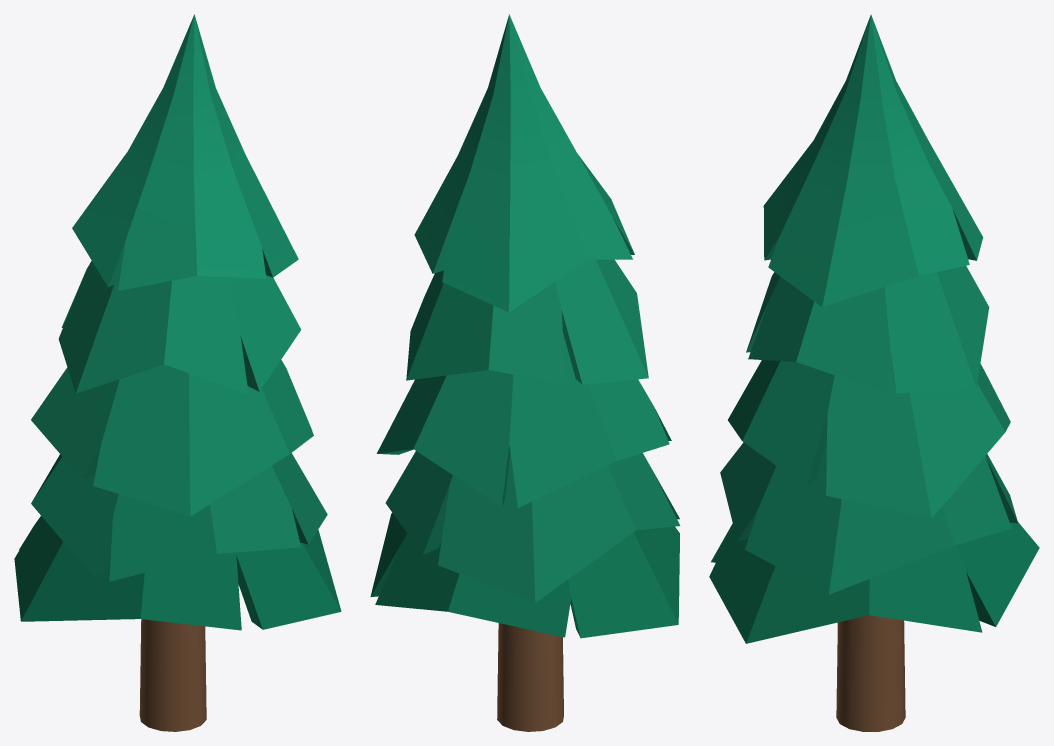
File: Spruce_Turquoise_Thin_1.fbx
3 renders of one model, left to right at view 1: azimuth 30°, elevation 25°; view 2: azimuth 150°, elevation 25°; view 3: azimuth 270°, elevation 25°, orthographic. The views are drawn at different scales.
Visible parts, largest first — view 1: Cylinder.1100, Cylinder.1101, Cylinder.1102, Cylinder.1104, Cylinder.1103, Cylinder.1105; view 2: Cylinder.1100, Cylinder.1101, Cylinder.1103, Cylinder.1102, Cylinder.1104, Cylinder.1105; view 3: Cylinder.1100, Cylinder.1101, Cylinder.1103, Cylinder.1102, Cylinder.1104, Cylinder.1105.
Boxes of the visible parts, box(x1,y1,x2,y2) form: Cylinder.1100: box(72, 14, 298, 290); Cylinder.1101: box(31, 360, 313, 516); Cylinder.1102: box(58, 261, 301, 394); Cylinder.1104: box(14, 516, 341, 630); Cylinder.1103: box(31, 453, 327, 581); Cylinder.1105: box(139, 619, 206, 731); Cylinder.1100: box(414, 14, 634, 312); Cylinder.1101: box(376, 333, 671, 507); Cylinder.1103: box(385, 451, 680, 602); Cylinder.1102: box(406, 259, 648, 384); Cylinder.1104: box(370, 512, 679, 638); Cylinder.1105: box(497, 623, 563, 731); Cylinder.1100: box(763, 14, 983, 307); Cylinder.1101: box(728, 356, 1010, 518); Cylinder.1103: box(720, 439, 1017, 594); Cylinder.1102: box(746, 266, 989, 393); Cylinder.1104: box(709, 522, 1039, 643); Cylinder.1105: box(836, 615, 905, 731).
Size of the model in its own units: 247 by 567 by 238.
